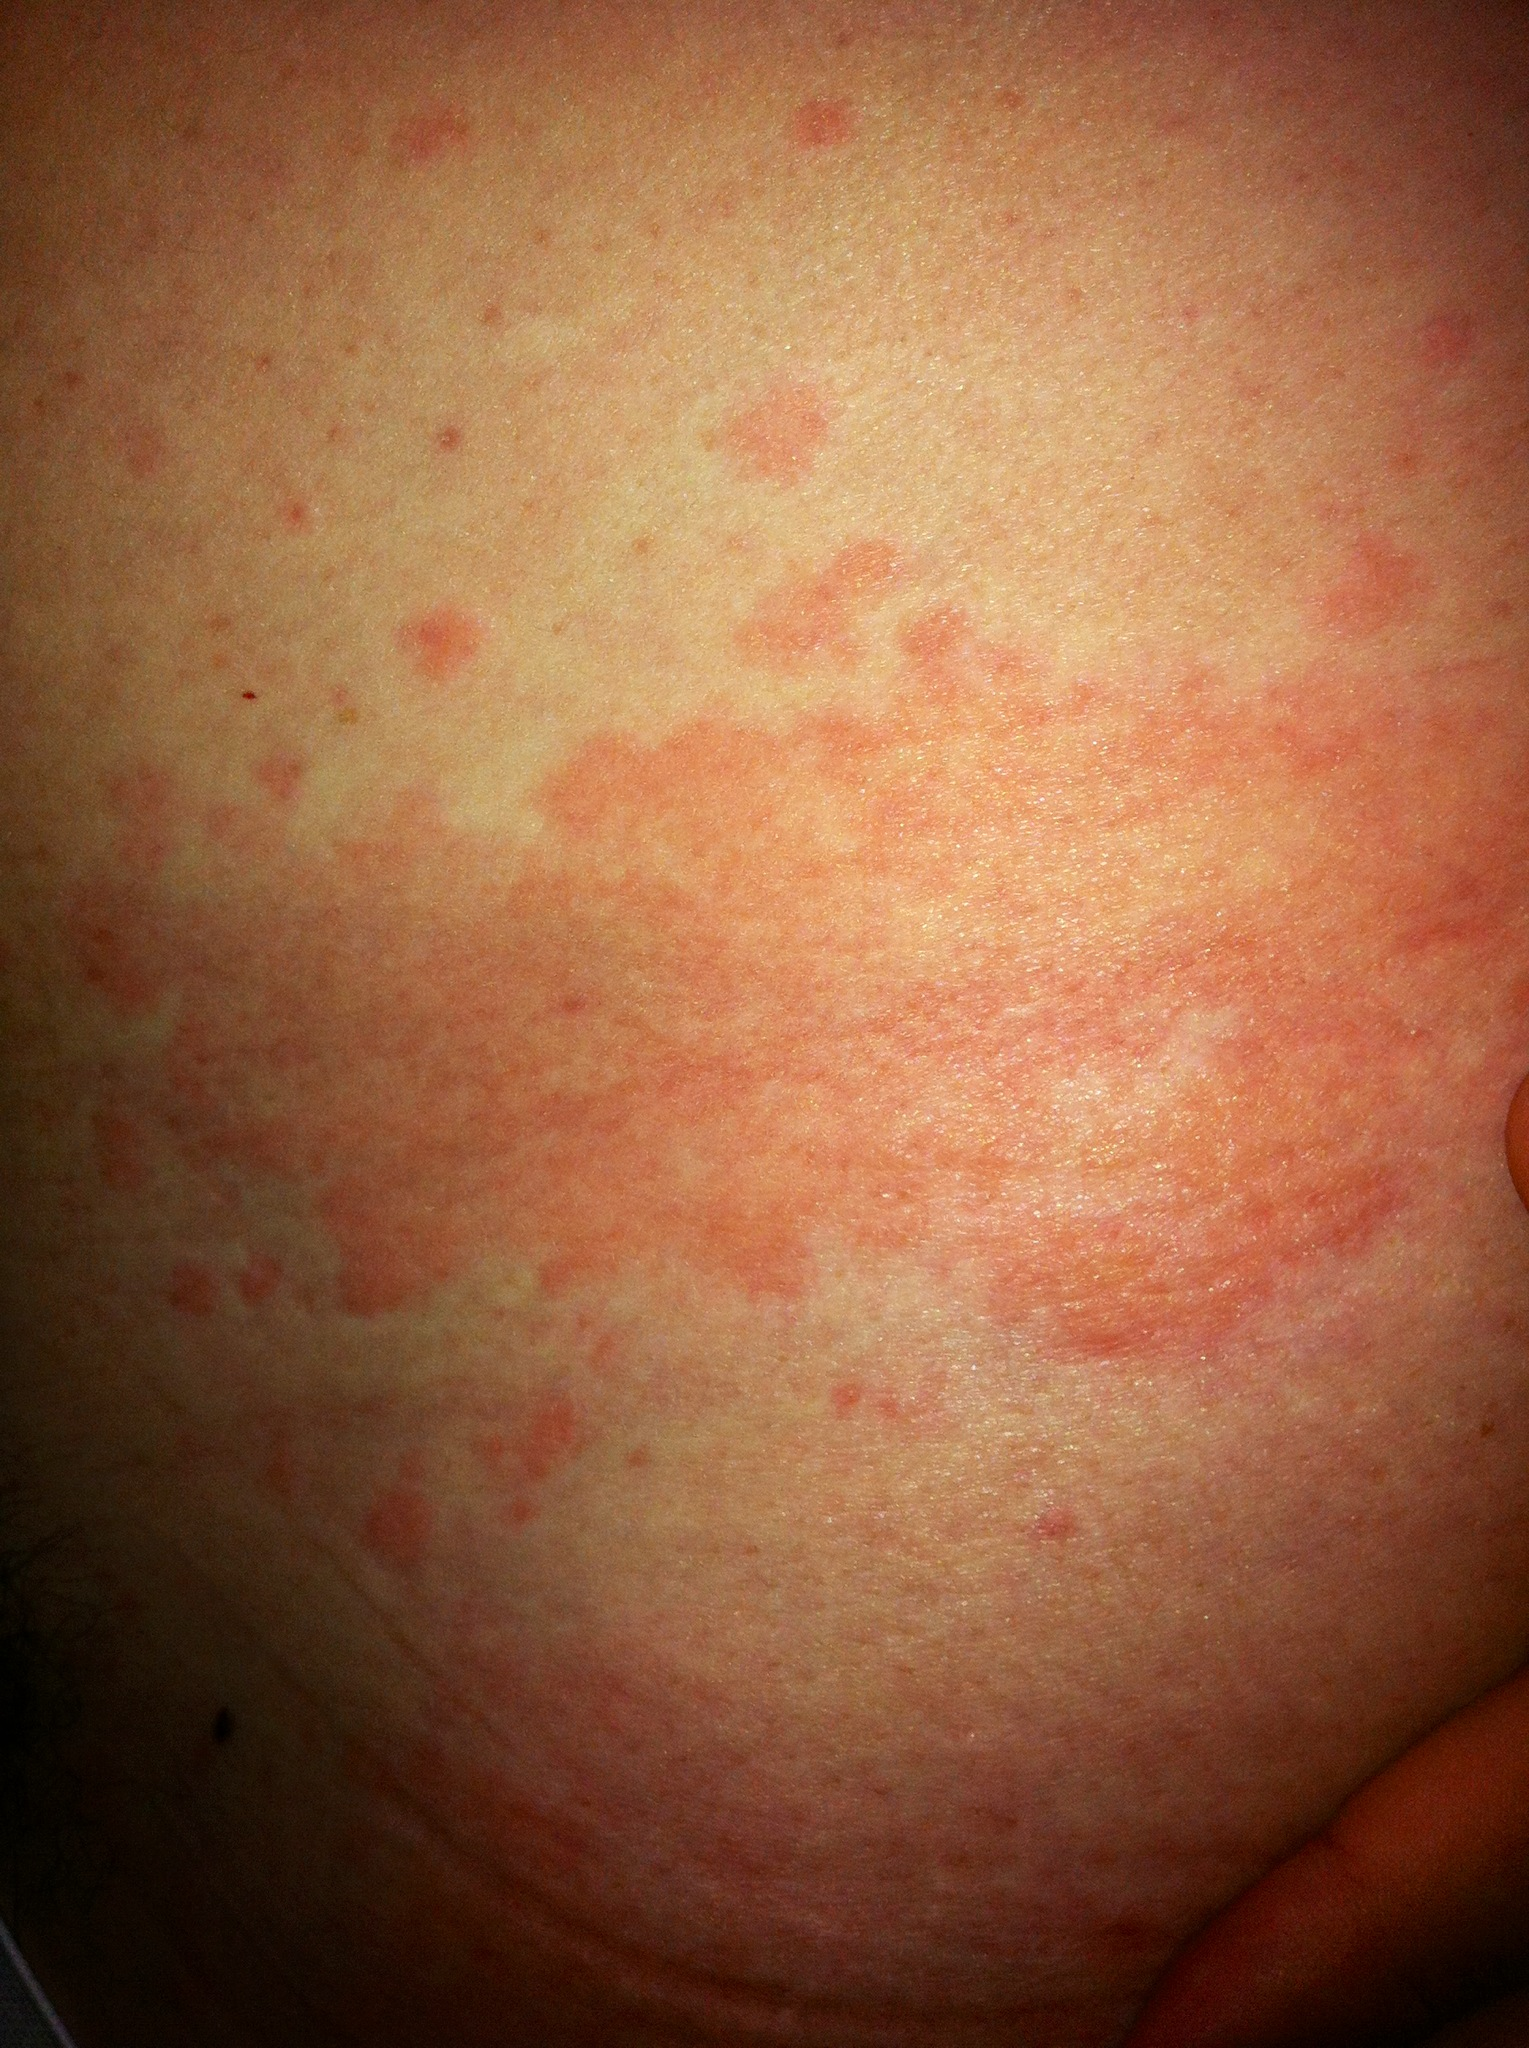Hives: (206, 663, 1394, 1319)
